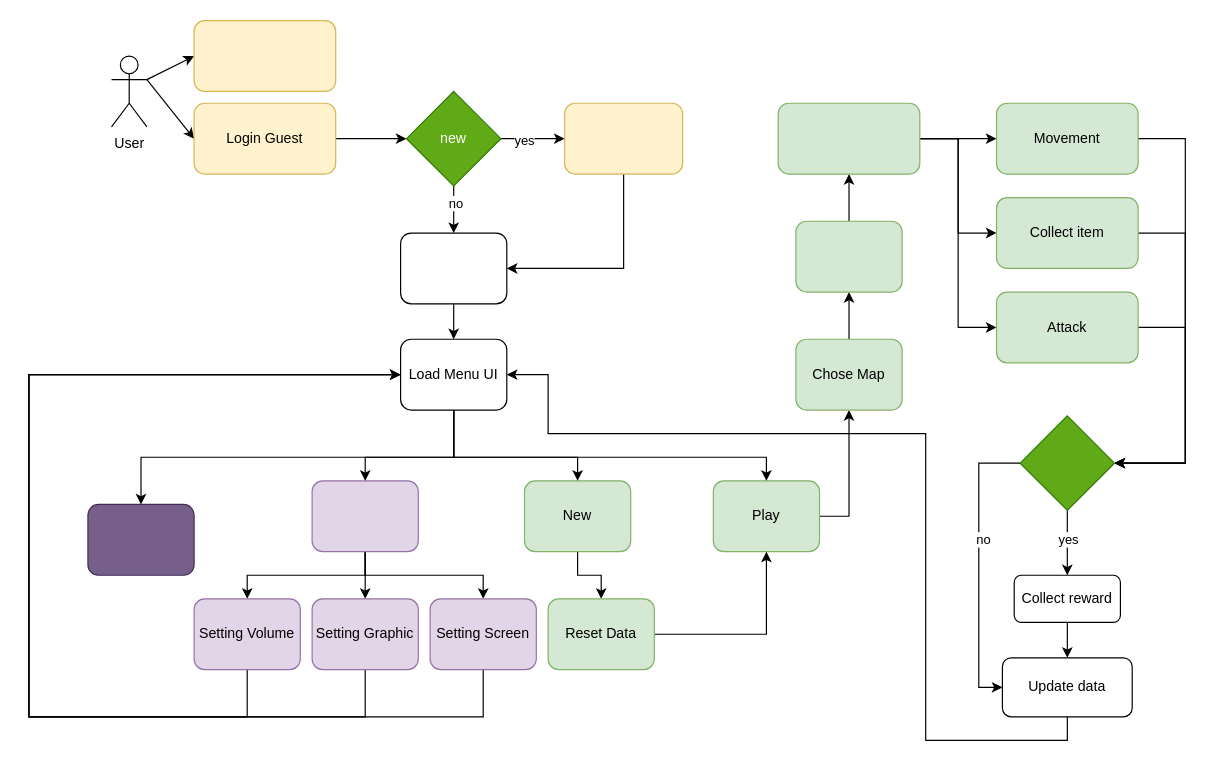
The diagram is 1215 pixels wide and 771 high, and some of its shapes have lost their labels. The centre of each missing label's shape, as x and y in pixels:
Chose Quest: point 848,256
Control Player: point 848,138
Create new Guest: point 623,138
is Sucess Quest: point 1067,462
Load data: point 453,268
Login: point 264,55
Quit: point 140,539
Setting Option: point 364,516
